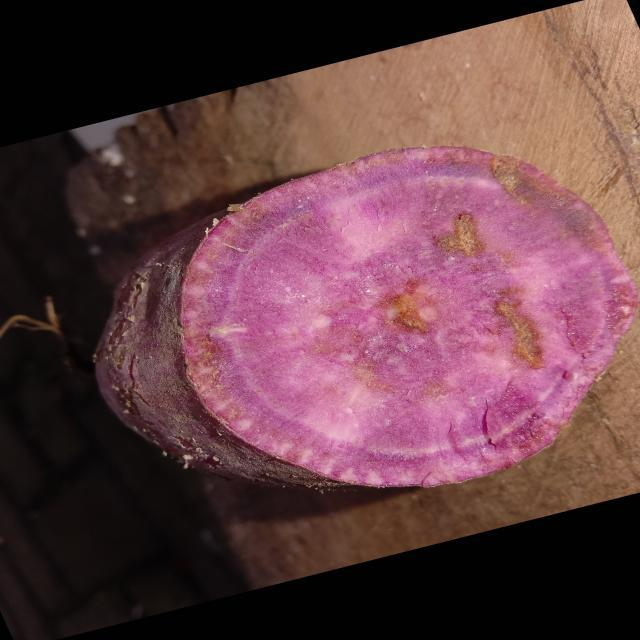Sick Sweet Potato_Tuber Rot: (183, 148, 637, 486)
